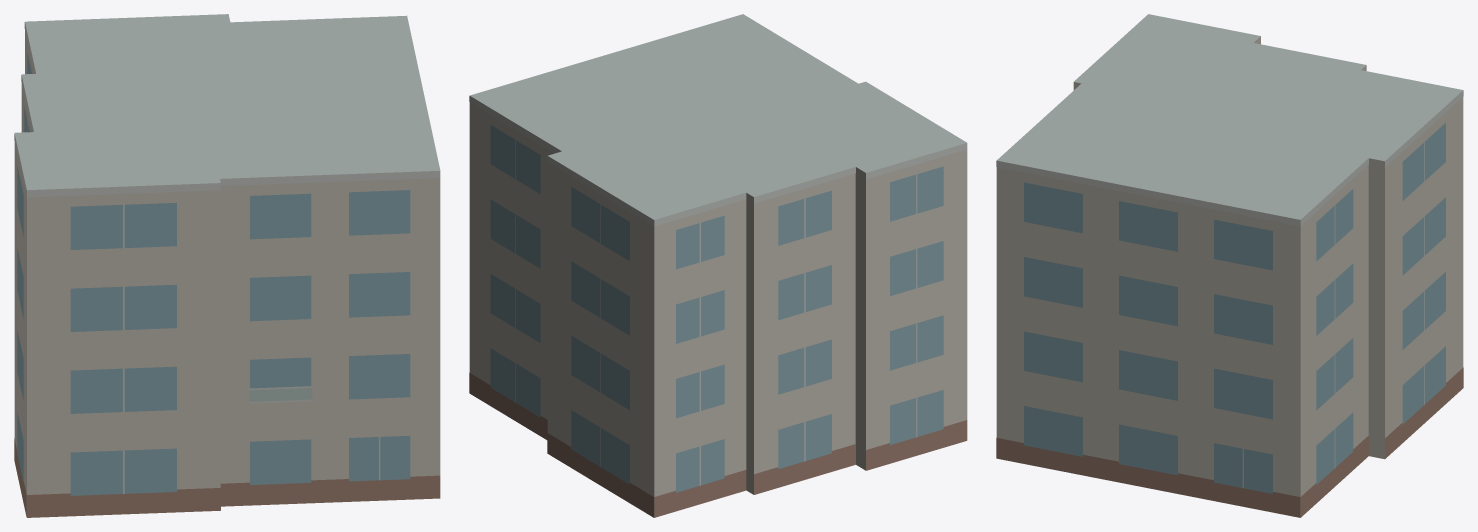
Rendered from survey-upis-32753423.glb.
3 renders of one model, left to right at view 1: azimuth 30°, elevation 25°; view 2: azimuth 150°, elevation 25°; view 3: azimuth 270°, elevation 25°, orthographic. The views are drawn at different scales.
Parts seen in each view (by area): view 1: survey-upis-32753423.tmp; view 2: survey-upis-32753423.tmp; view 3: survey-upis-32753423.tmp.
Part boxes in pixels (box(x1,y1,x2,y2)): survey-upis-32753423.tmp: box(14, 14, 440, 517); survey-upis-32753423.tmp: box(469, 14, 967, 517); survey-upis-32753423.tmp: box(996, 14, 1463, 517).
Size of the model in its own units: 16.46 by 11.1 by 15.77.
